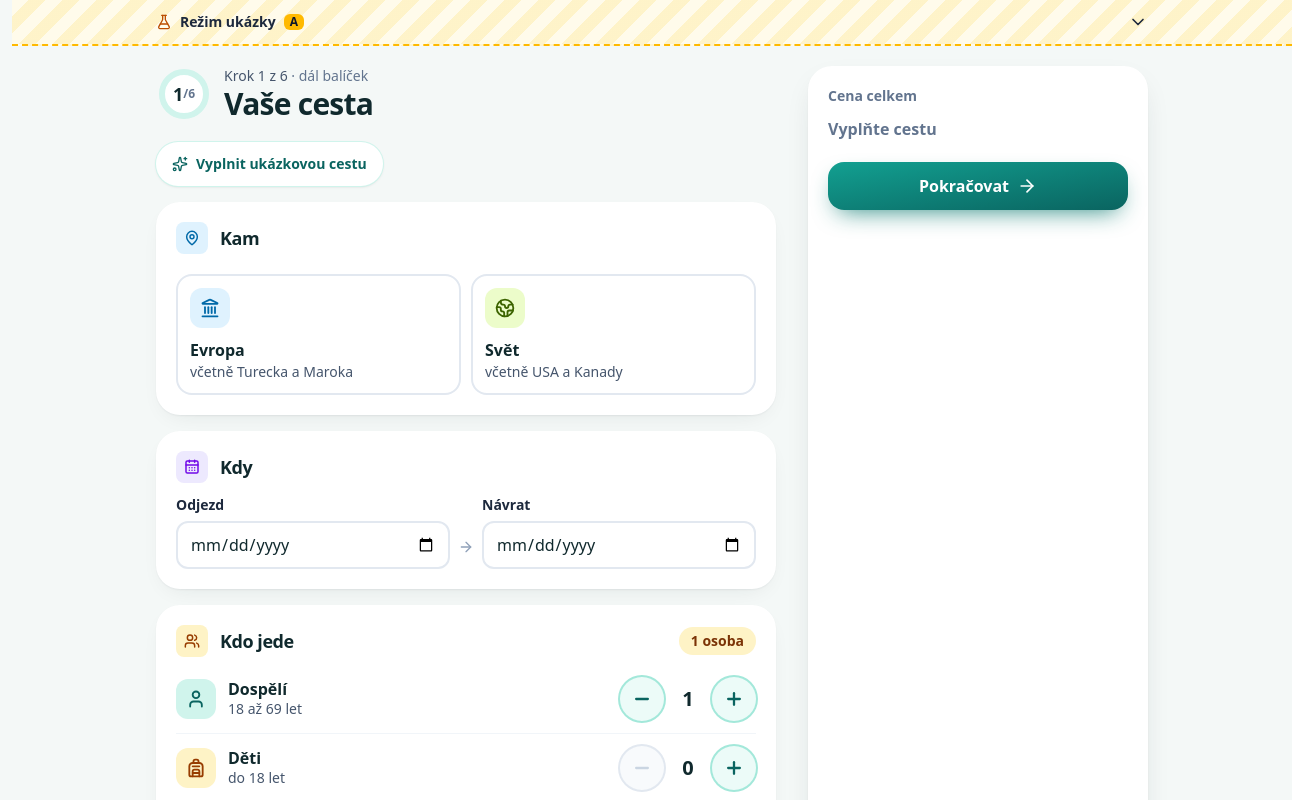
DebugBar › přepne variantu přes ?v a zachová ostatní parametry
Click the button "Režim ukázky A".
click(228, 22)  # box [156, 0, 1148, 44]
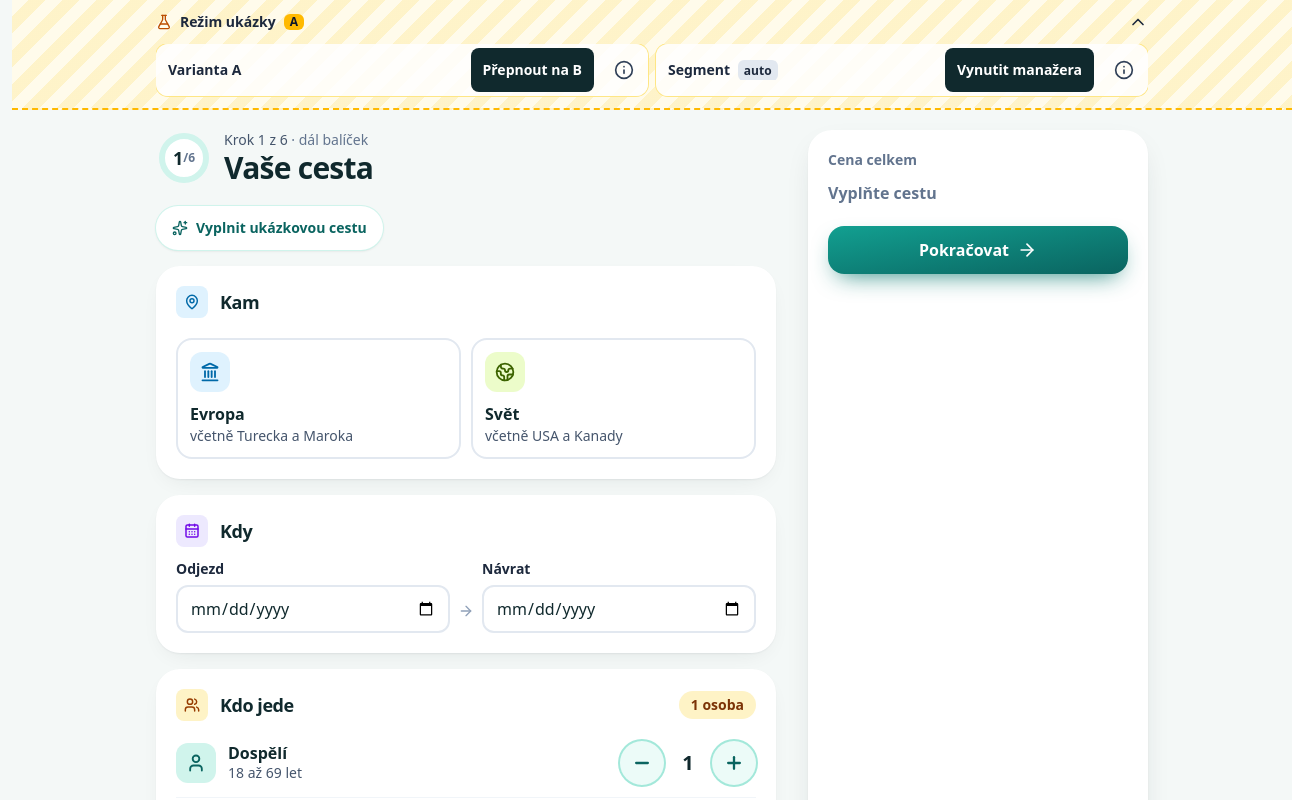
Expected: the text "Varianta A" is shown, [168, 60, 241, 79]
Click the button "Přepnout na B".
click(532, 70)  # box [470, 48, 594, 92]
(page scrolled)
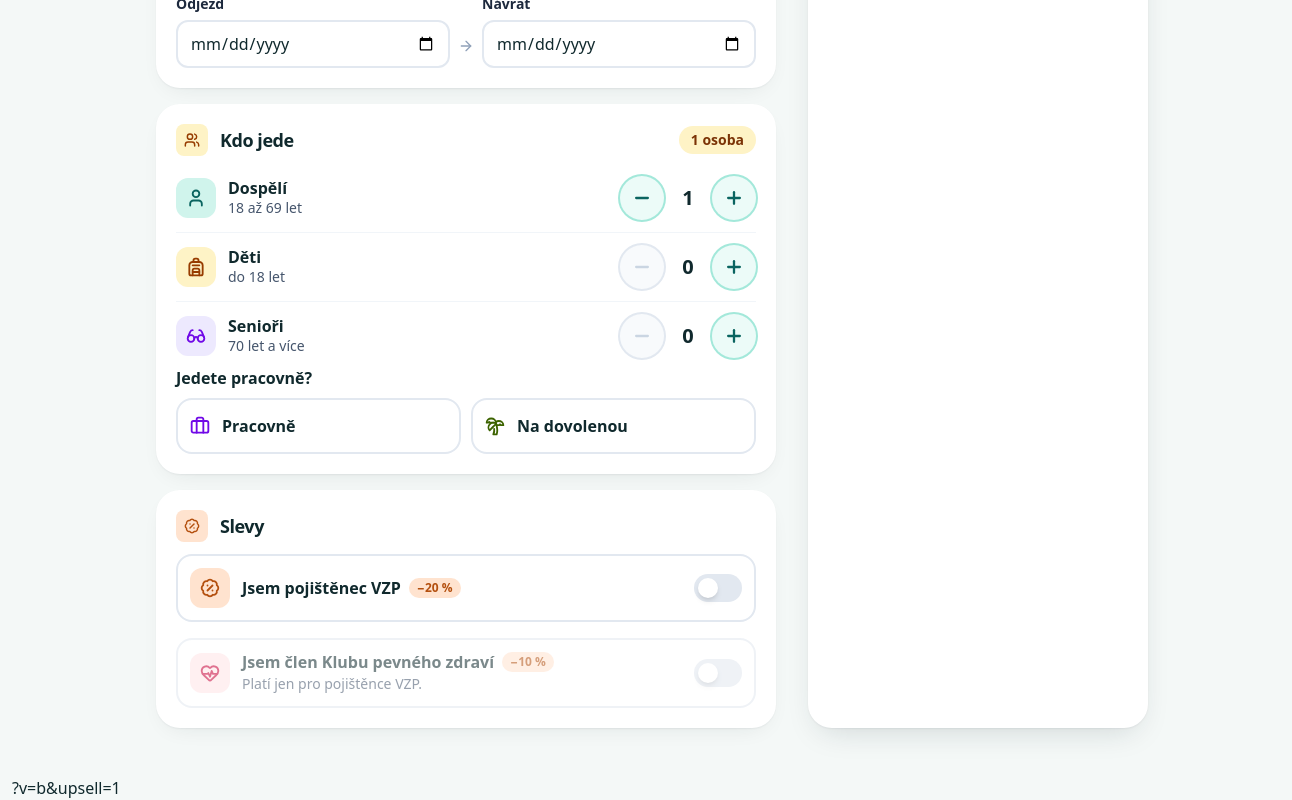
Result: the text with test id "search" reads "?v=b&upsell=1" at [12, 777, 121, 799]
